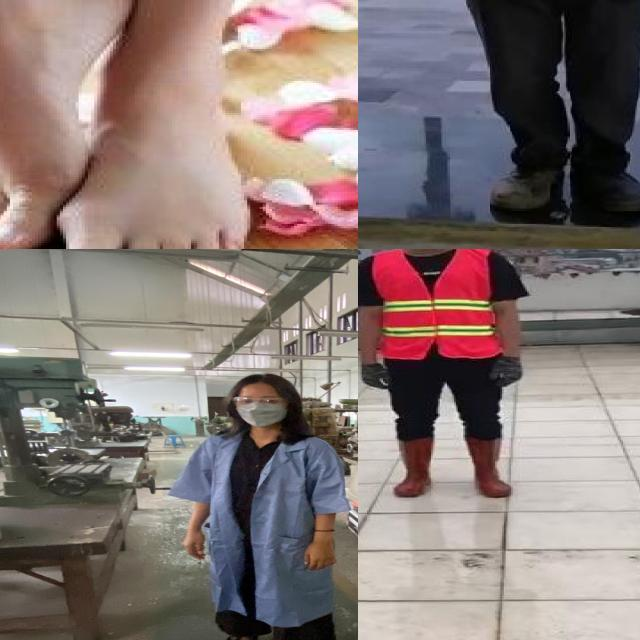Barefoots: (0, 0, 143, 249)
boots: (461, 435, 518, 498), (392, 436, 436, 499)
face_mask: (228, 393, 293, 428)
glasses: (227, 394, 294, 410)
hand_glove: (490, 356, 525, 390), (358, 362, 394, 390)
hand_noglove: (294, 539, 340, 575), (178, 532, 214, 562)
head_nohelmet: (229, 370, 300, 394)
person: (164, 370, 358, 640), (411, 0, 640, 223), (358, 249, 530, 501)
shoes: (479, 156, 564, 212), (568, 156, 640, 216)
vest: (370, 249, 502, 360)
